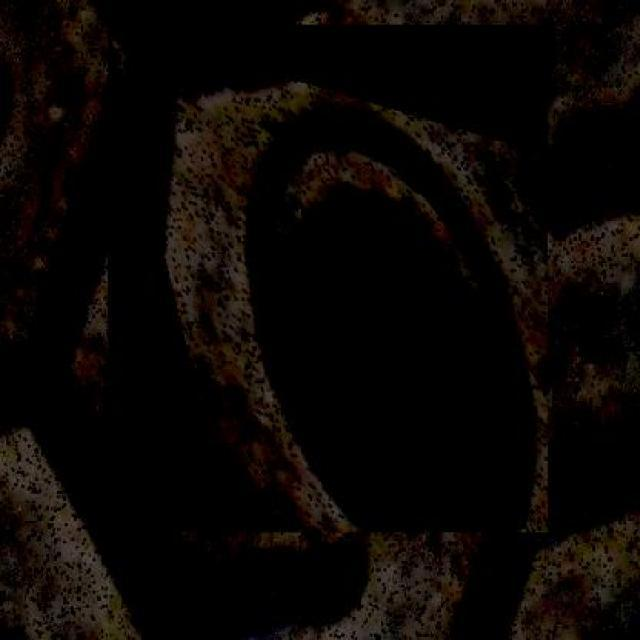Manhole: (108, 25, 548, 532)
